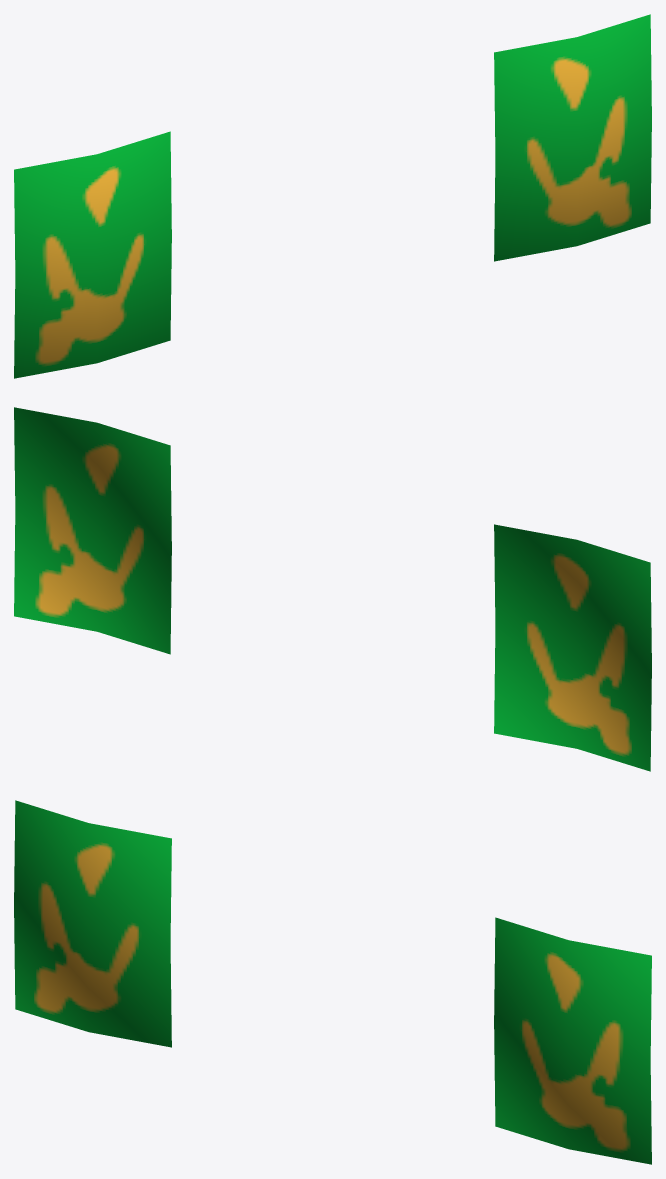
The model's file is p_mesh_trashbot_slimewave_splashplane04.fbx.
3 renders of one model, top to bottom at view 1: azimuth 30°, elevation 25°; view 2: azimuth 150°, elevation 25°; view 3: azimuth 330°, elevation 25°, orthographic.
Parts seen in each view (by area): view 1: p_trashbot_slimewave_splashplane04; view 2: p_trashbot_slimewave_splashplane04; view 3: p_trashbot_slimewave_splashplane04.
Boxes of the visible parts, x1,y1,x2,y2 form: p_trashbot_slimewave_splashplane04: [14, 14, 651, 378]; p_trashbot_slimewave_splashplane04: [14, 407, 651, 771]; p_trashbot_slimewave_splashplane04: [14, 800, 651, 1164].
Bounding box in the file's own units: 20.74 × 6.51 × 0.3597.
